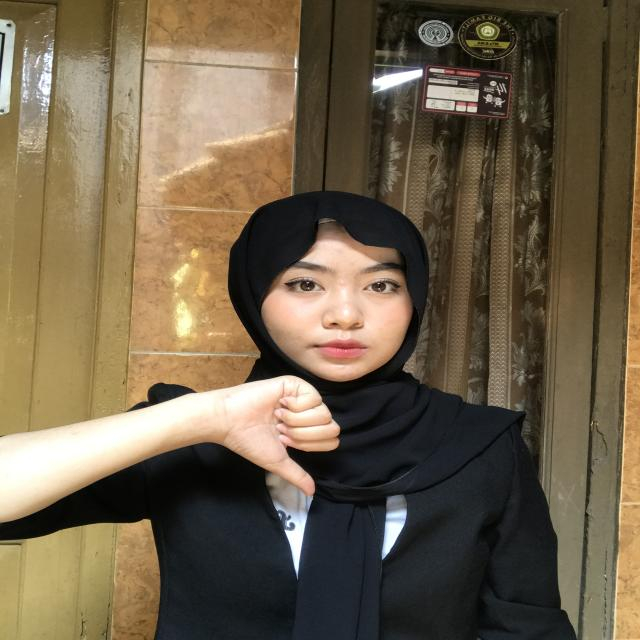sedih: (226, 352, 362, 512)
